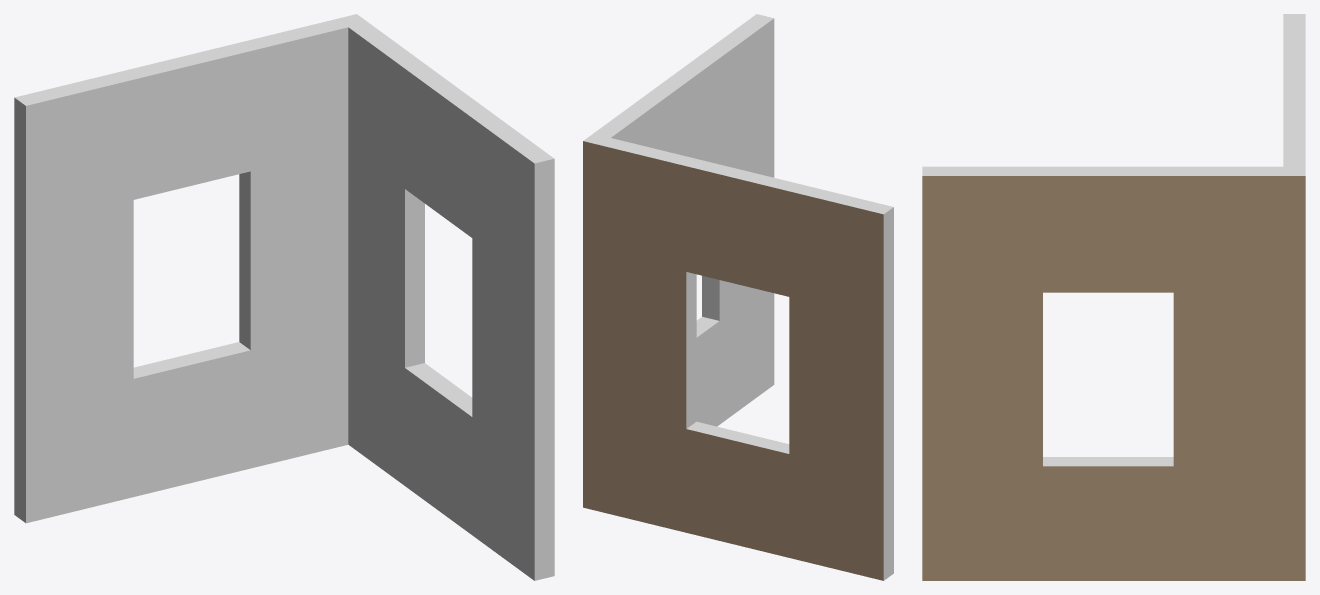
The model's file is Wall2_C2_09.fbx.
The picture shows the model from 3 angles, left to right: view 1: azimuth 30°, elevation 25°; view 2: azimuth 150°, elevation 25°; view 3: azimuth 270°, elevation 25°; orthographic projection. The views are drawn at different scales.
Visible parts, largest first — view 1: Wall2_C2_09; view 2: Wall2_C2_09; view 3: Wall2_C2_09.
Part boxes in pixels (box(x1,y1,x2,y2)): Wall2_C2_09: box(14, 14, 554, 580); Wall2_C2_09: box(583, 14, 893, 580); Wall2_C2_09: box(922, 14, 1305, 580).
Size of the model in its own units: 258 by 300 by 258.
